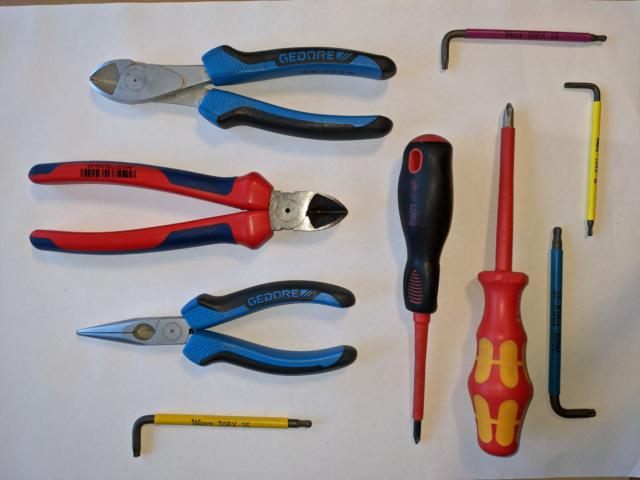Inbusschlüssel: (545, 225, 600, 422), (129, 409, 316, 460), (437, 25, 610, 73), (559, 78, 604, 240)
Schraubendreher: (463, 99, 538, 461), (395, 132, 457, 448)
Seitenschneider: (23, 153, 353, 261), (84, 39, 400, 144)
Zange: (72, 275, 359, 380)
